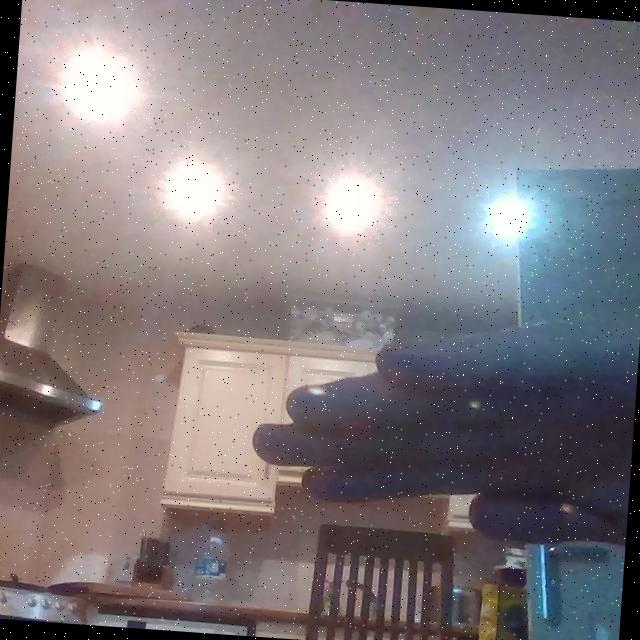papper: (235, 275, 640, 580)
